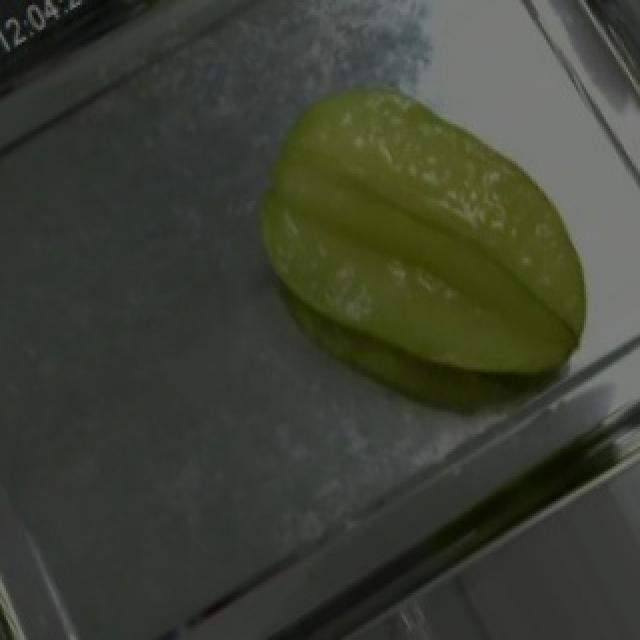fruit: (228, 45, 636, 464)
